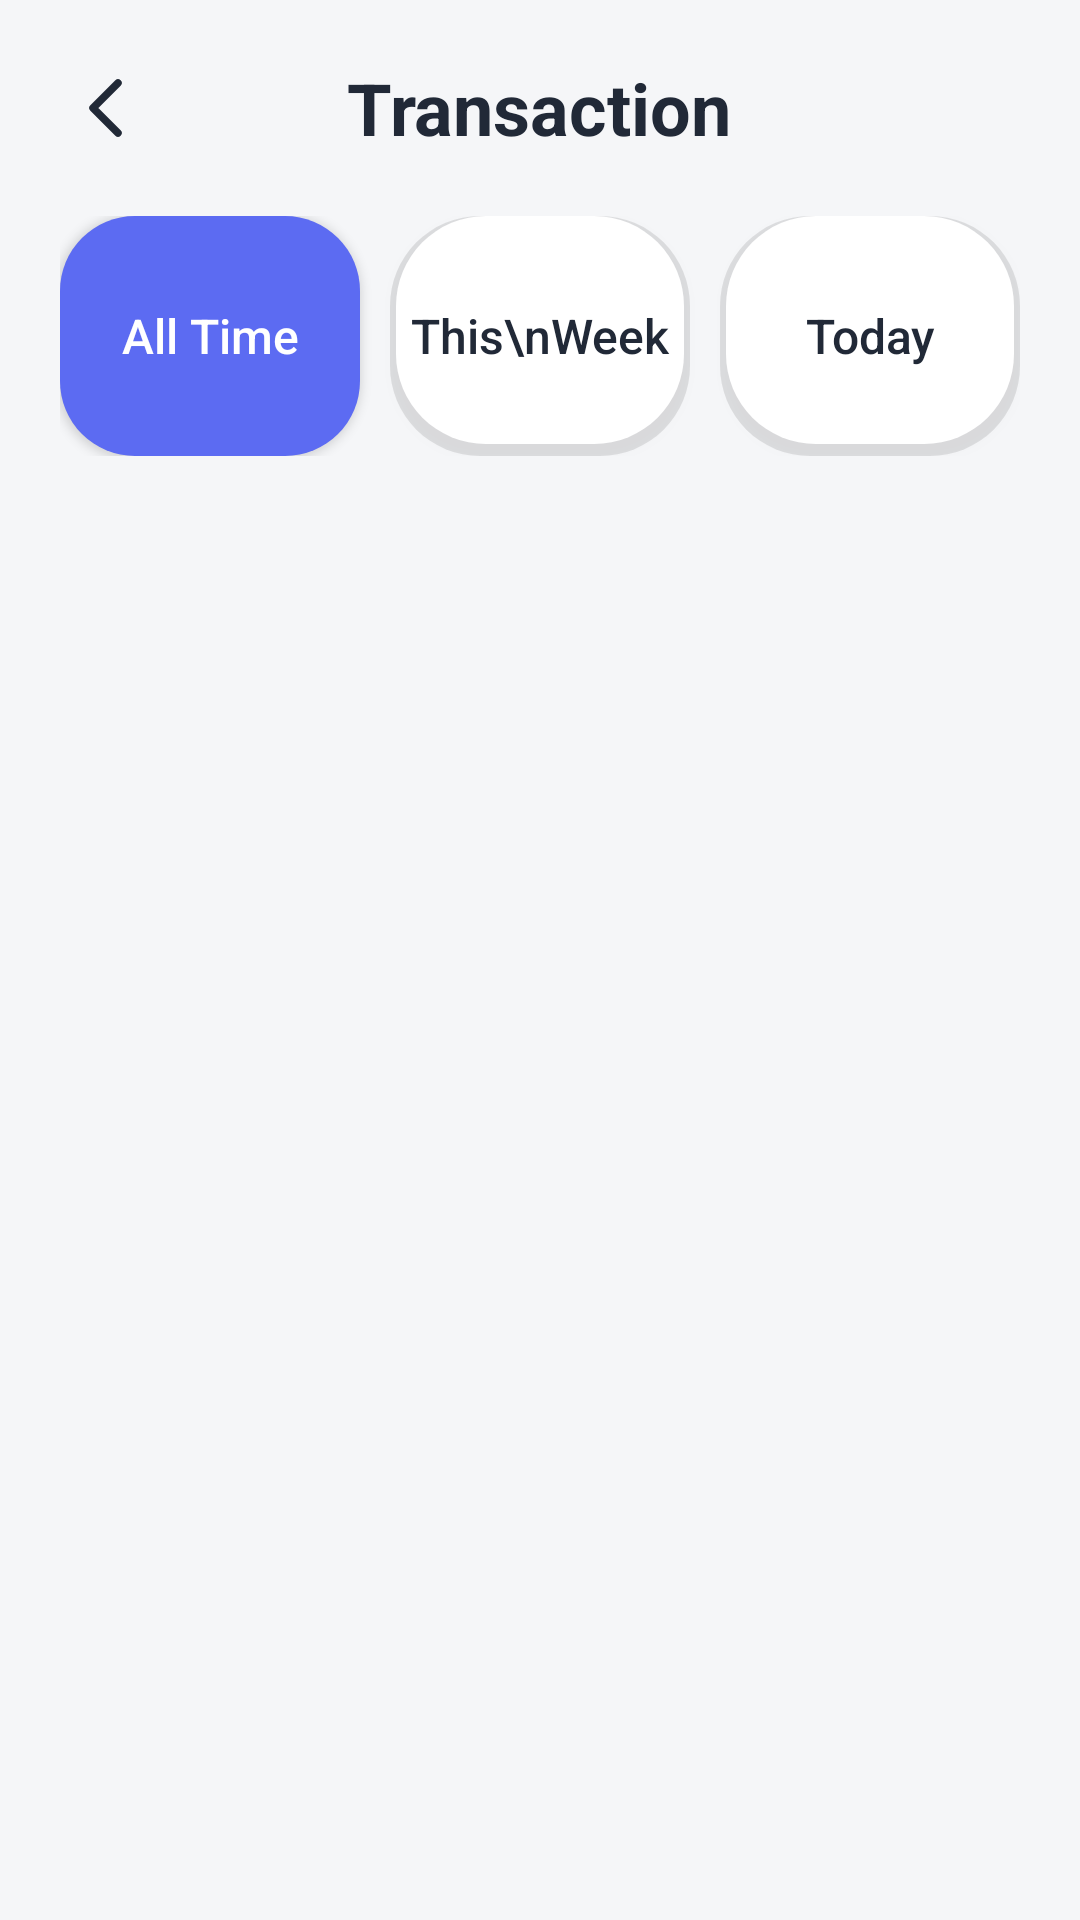

Named icons in this screenshot (1080w x 1920h) and their centers, [x,y]:
arrow left: [105,108]
